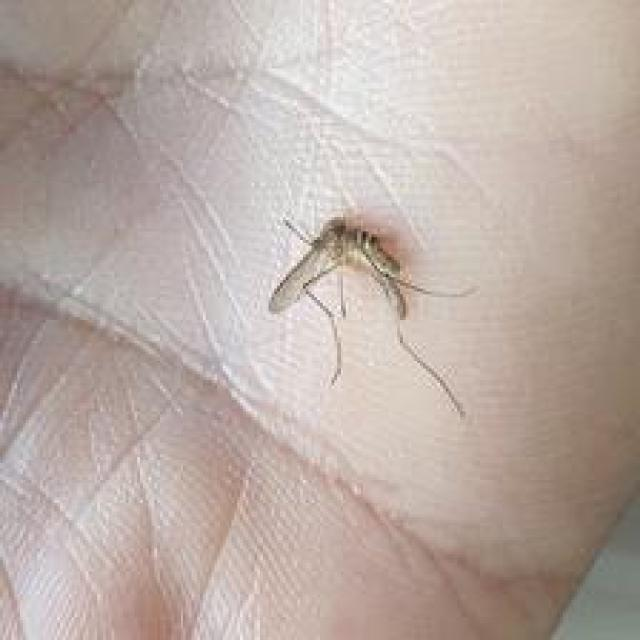Culex: (266, 213, 477, 418)
